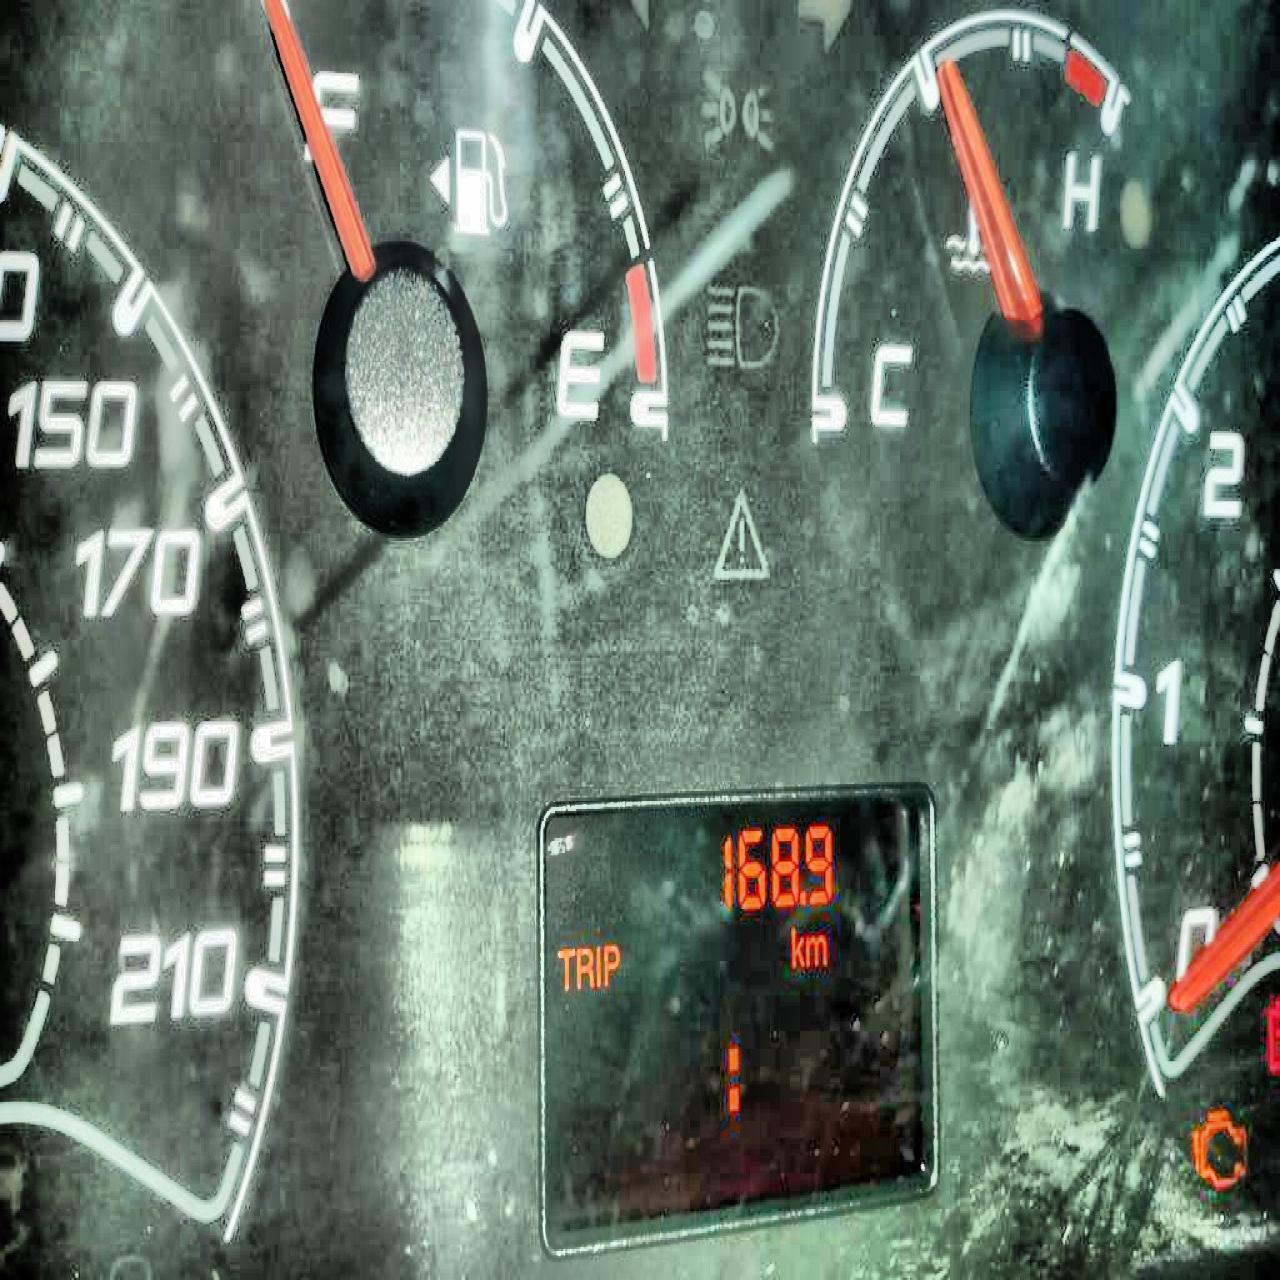-: (797, 888, 806, 904)
1: (721, 826, 734, 911)
6: (736, 819, 765, 913)
8: (770, 822, 799, 908)
9: (804, 821, 835, 907)
X: (723, 1032, 745, 1118), (556, 942, 576, 994), (602, 940, 621, 989), (576, 942, 594, 990), (805, 931, 828, 969), (789, 922, 803, 971), (595, 940, 601, 989)
odometer: (529, 776, 942, 1240)
